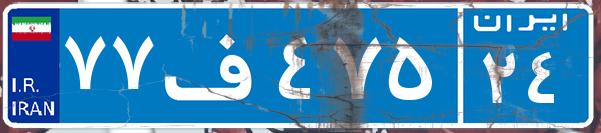2: (475, 38, 525, 113)
4: (273, 28, 330, 110), (525, 38, 570, 115)
5: (385, 28, 445, 110)
7: (330, 28, 385, 110), (57, 26, 110, 107), (110, 28, 158, 105)
ف: (158, 15, 273, 115)
